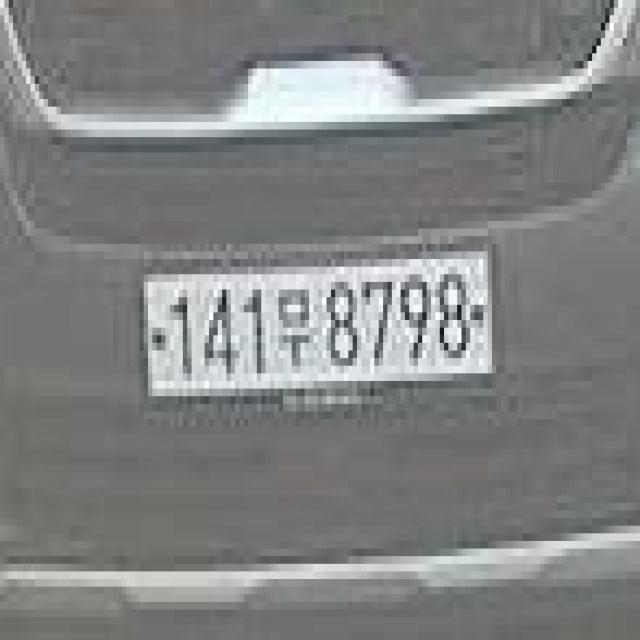illegal_plate: (137, 236, 505, 424)
